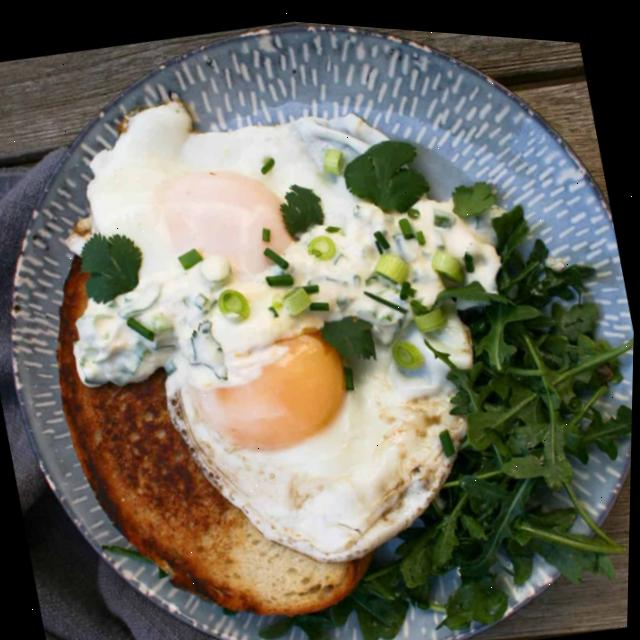Bread: (58, 255, 372, 609)
Egg: (71, 96, 501, 555)
